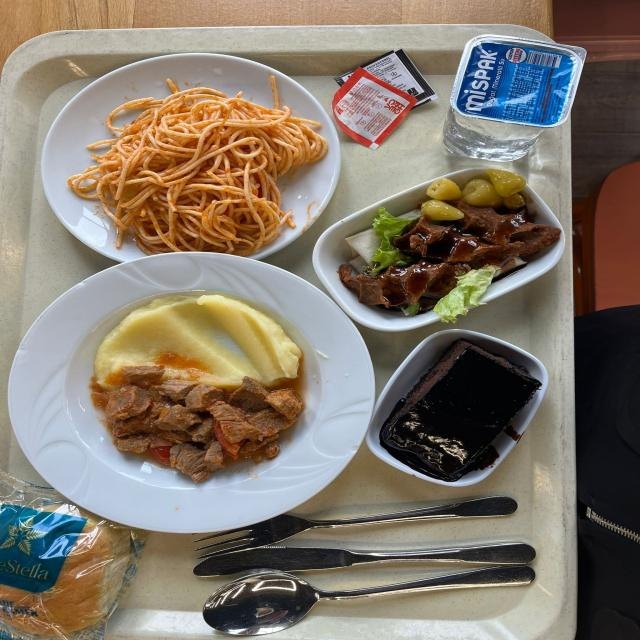ana_yemek: (7, 271, 367, 490), (38, 53, 334, 264)
yan_yemek: (319, 167, 549, 318), (364, 331, 541, 480)
